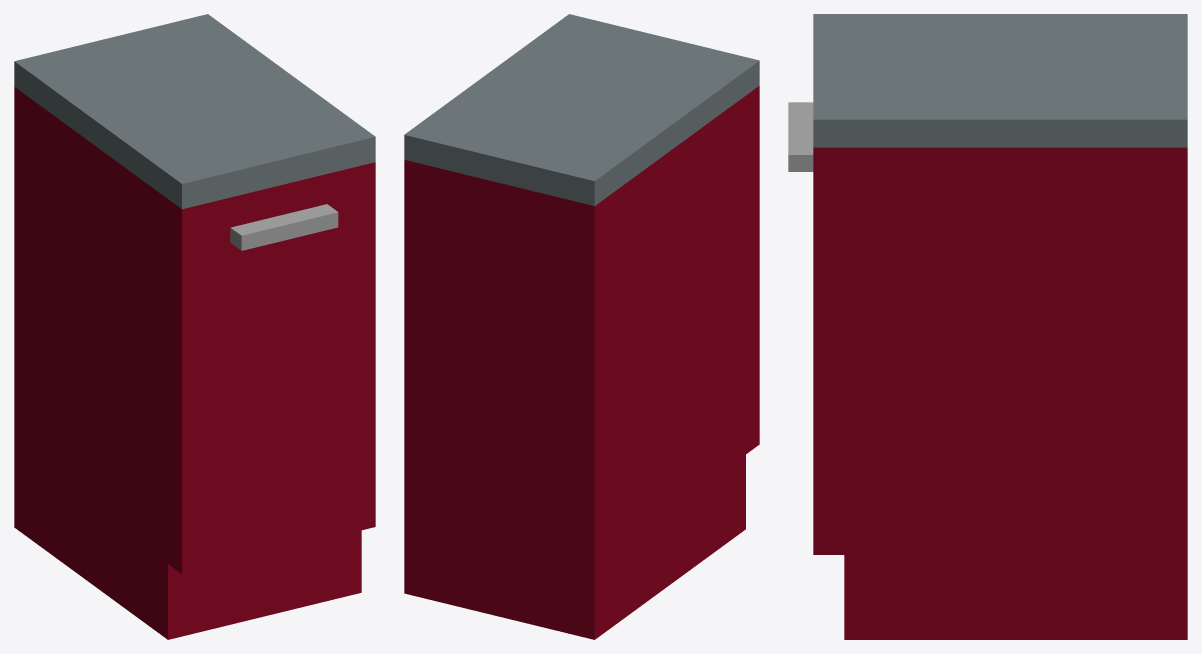
The model's file is Cabinet_3_Small_Lateral.fbx.
The picture shows the model from 3 angles, left to right: view 1: azimuth 30°, elevation 25°; view 2: azimuth 150°, elevation 25°; view 3: azimuth 270°, elevation 25°; orthographic projection. The views are drawn at different scales.
Visible parts, largest first — view 1: cabinet-kitchen-small; view 2: cabinet-kitchen-small; view 3: cabinet-kitchen-small.
Boxes of the visible parts, x1,y1,x2,y2 form: cabinet-kitchen-small: (14,14,375,639); cabinet-kitchen-small: (404,14,759,639); cabinet-kitchen-small: (788,14,1187,639).
Bounding box in the file's own units: 40 × 92 × 64.
